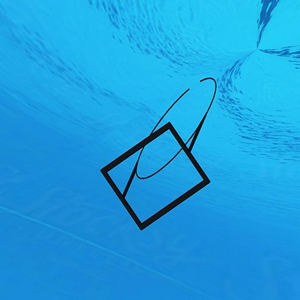circle: (99, 75, 216, 231)
